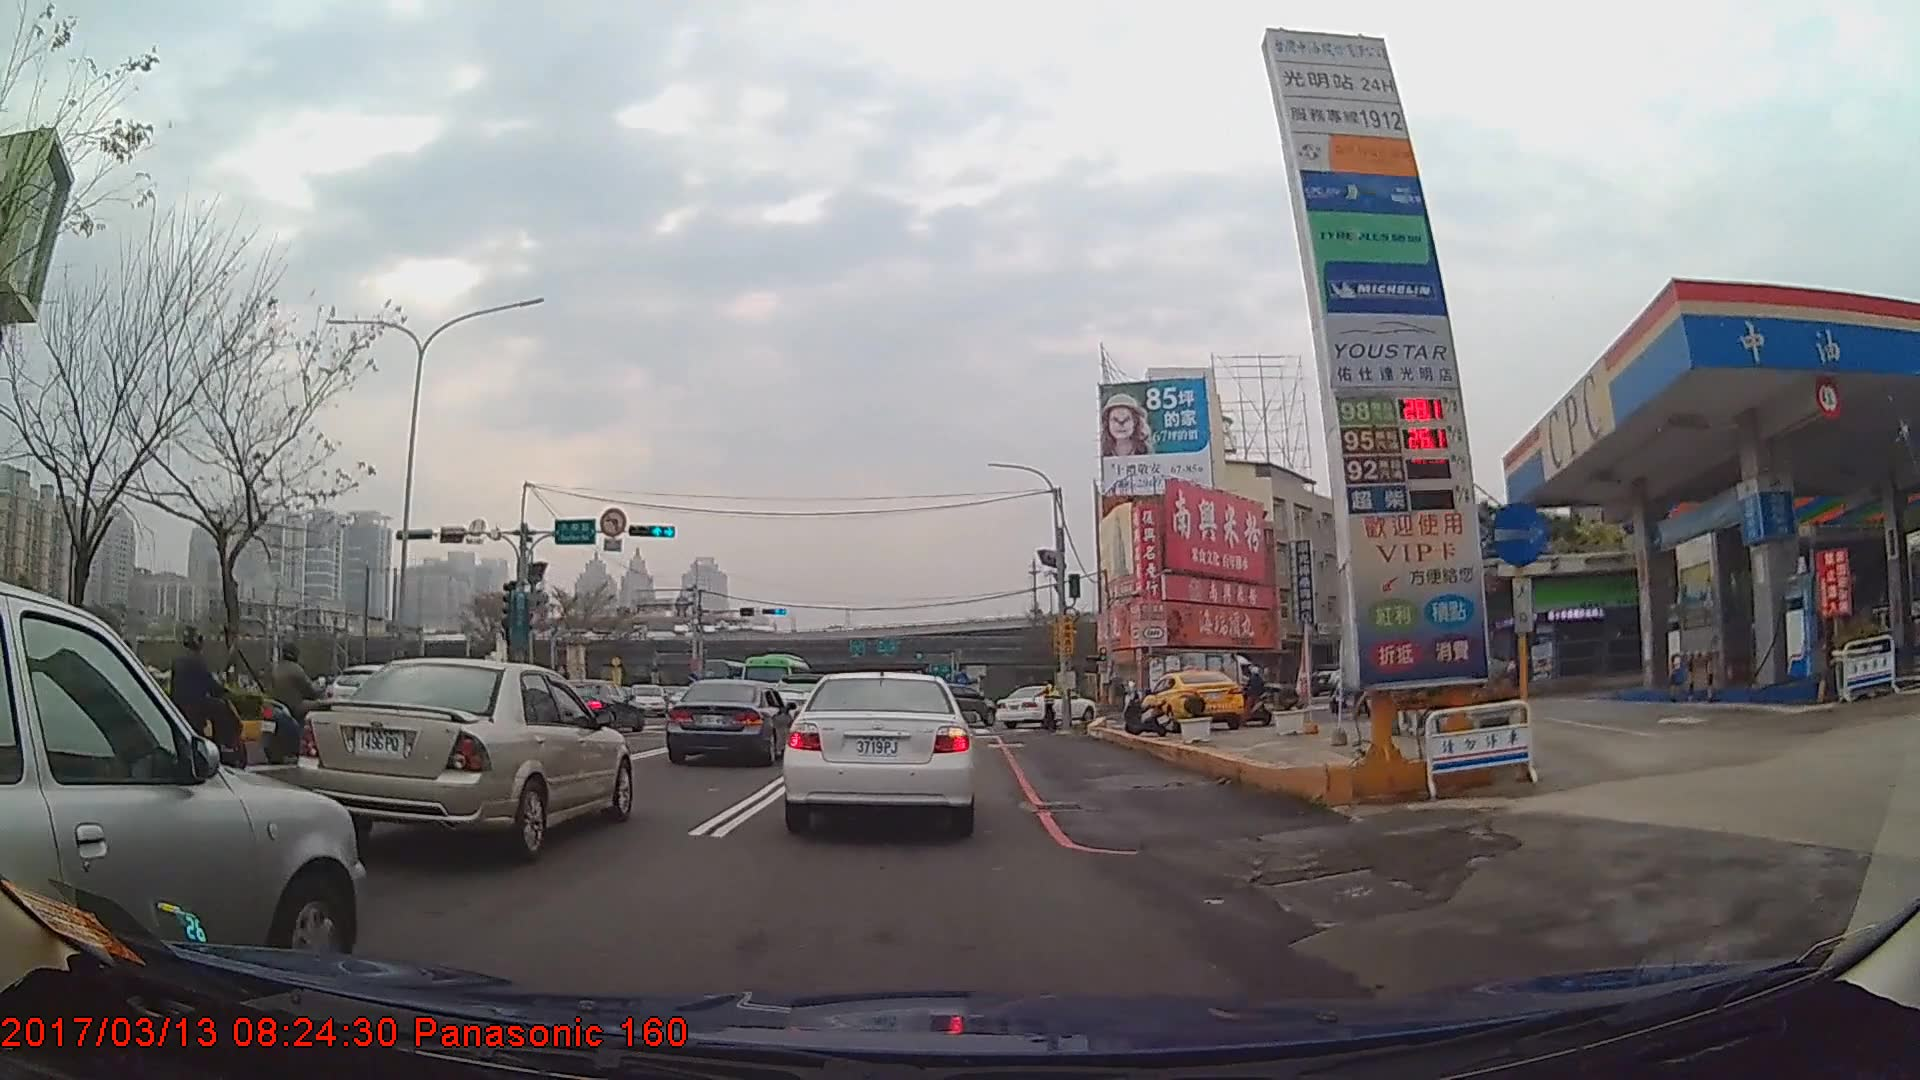pedestrian: (1031, 678, 1058, 733)
rider: (155, 625, 245, 780), (259, 641, 334, 764), (1335, 656, 1379, 718), (1237, 666, 1275, 728)
vehicle: (0, 580, 364, 987), (299, 656, 634, 862), (785, 666, 975, 834), (666, 678, 795, 767), (1143, 647, 1258, 713), (1144, 669, 1251, 731), (550, 678, 645, 732), (994, 682, 1097, 729), (740, 652, 814, 710), (923, 681, 998, 727)
